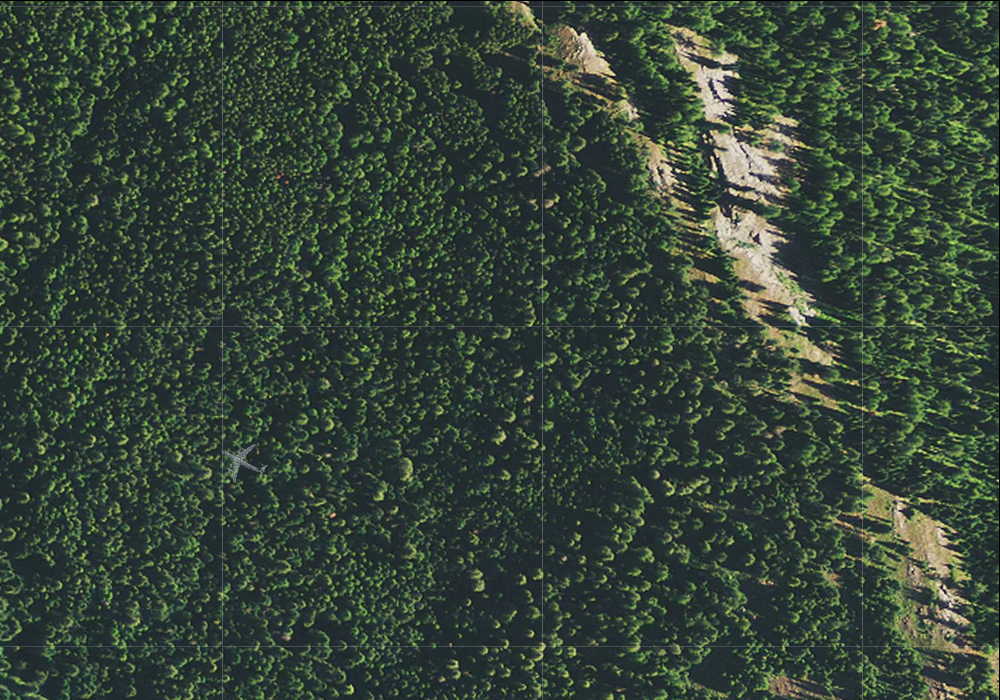plane: (209, 429, 275, 494)
